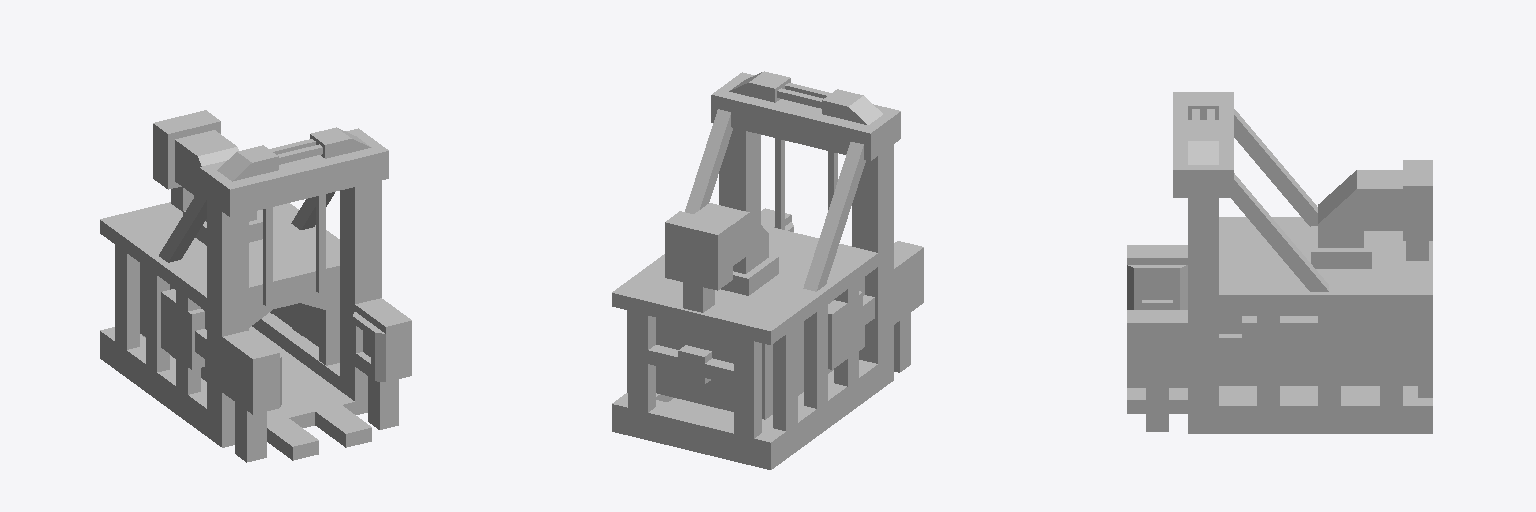
Rendered from car_kiln.obj.
The picture shows the model from 3 angles: view 1: azimuth 30°, elevation 25°; view 2: azimuth 150°, elevation 25°; view 3: azimuth 270°, elevation 25°; orthographic projection.
Parts seen in each view (by area): view 1: roof, basePostW, frameBeam, basePostE, armInletW, baseBasin, baseRidgeW, lintel, armInletE, gasInlet, gasPipe, rsIn (+18 smaller); view 2: roof, basePostW, frameBeam, baseRidgeN, wallN, gasInlet, baseRidgeW, supporterW, basePostE, lesserPost2N, lesserPost1N, lesserPost1W (+16 smaller); view 3: roof, basePostE, baseRidgeE, gasPipe, wallE, rsOut, frameBeam, armInletE, supporterE, gasInlet, supporterW, lesserPost2E (+14 smaller).
Boxes of the visible parts, <box> form: roof: <box>100,202,339,310</box>; basePostW: <box>207,201,248,447</box>; frameBeam: <box>199,128,388,216</box>; basePostE: <box>340,180,381,414</box>; armInletW: <box>222,331,279,414</box>; baseBasin: <box>170,326,354,427</box>; baseRidgeW: <box>115,335,206,435</box>; lintel: <box>249,279,339,365</box>; armInletE: <box>355,298,411,381</box>; gasInlet: <box>153,110,220,189</box>; gasPipe: <box>175,130,256,221</box>; rsIn: <box>161,289,204,369</box>; roof: <box>612,224,877,344</box>; basePostW: <box>852,145,893,391</box>; frameBeam: <box>711,72,900,160</box>; baseRidgeN: <box>612,393,785,469</box>; wallN: <box>656,318,772,419</box>; gasInlet: <box>665,211,732,290</box>; baseRidgeW: <box>762,360,877,458</box>; supporterW: <box>803,142,865,291</box>; basePostE: <box>719,128,760,223</box>; lesserPost2N: <box>734,337,761,438</box>; lesserPost1N: <box>628,311,655,412</box>; lesserPost1W: <box>773,326,797,430</box>; roof: <box>1219,217,1432,308</box>; basePostE: <box>1188,198,1218,433</box>; baseRidgeE: <box>1219,393,1402,433</box>; gasPipe: <box>1318,170,1402,247</box>; wallE: <box>1219,309,1379,385</box>; rsOut: <box>1242,316,1317,377</box>; frameBeam: <box>1173,92,1233,197</box>; armInletE: <box>1127,310,1187,377</box>; supporterE: <box>1231,173,1328,291</box>; gasInlet: <box>1403,160,1432,240</box>; supporterW: <box>1234,109,1317,226</box>; lesserPost2E: <box>1318,309,1340,405</box>.
Size of the model in its own units: 3 by 5 by 5.